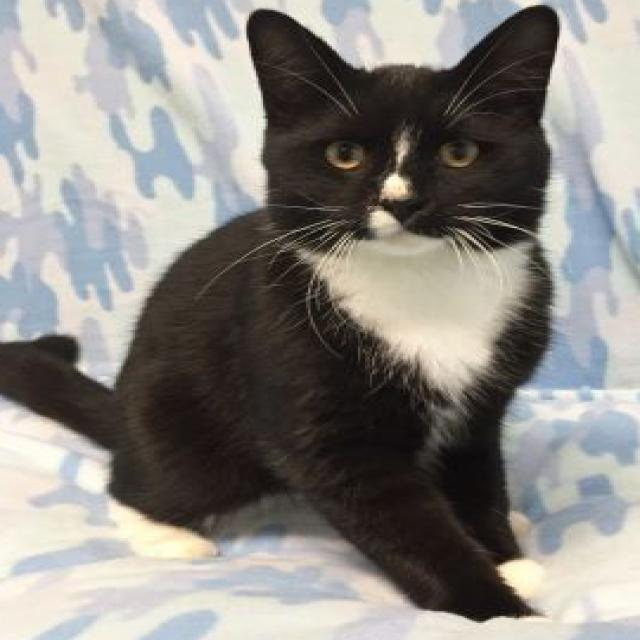Tuxedo: (0, 0, 564, 640)
